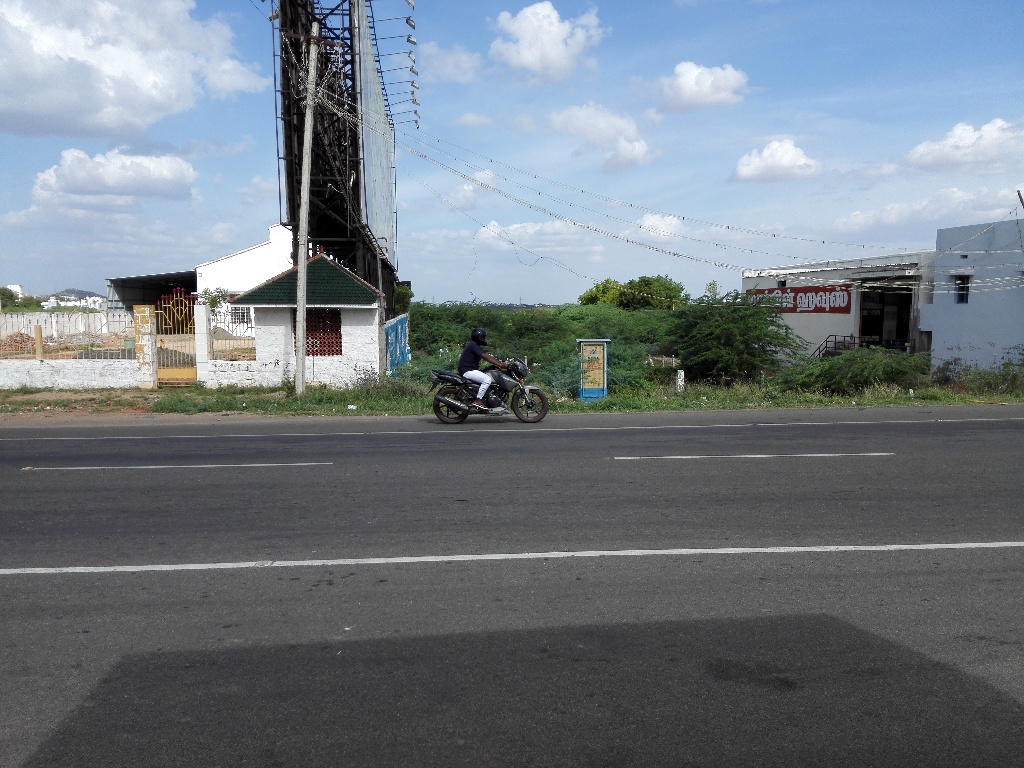biker: (420, 302, 558, 431)
helmet: (465, 317, 495, 358)
